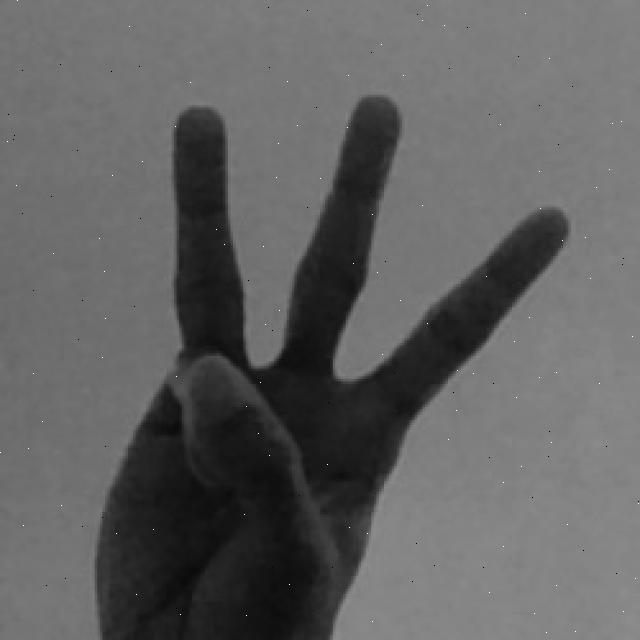W: (78, 83, 576, 640)
